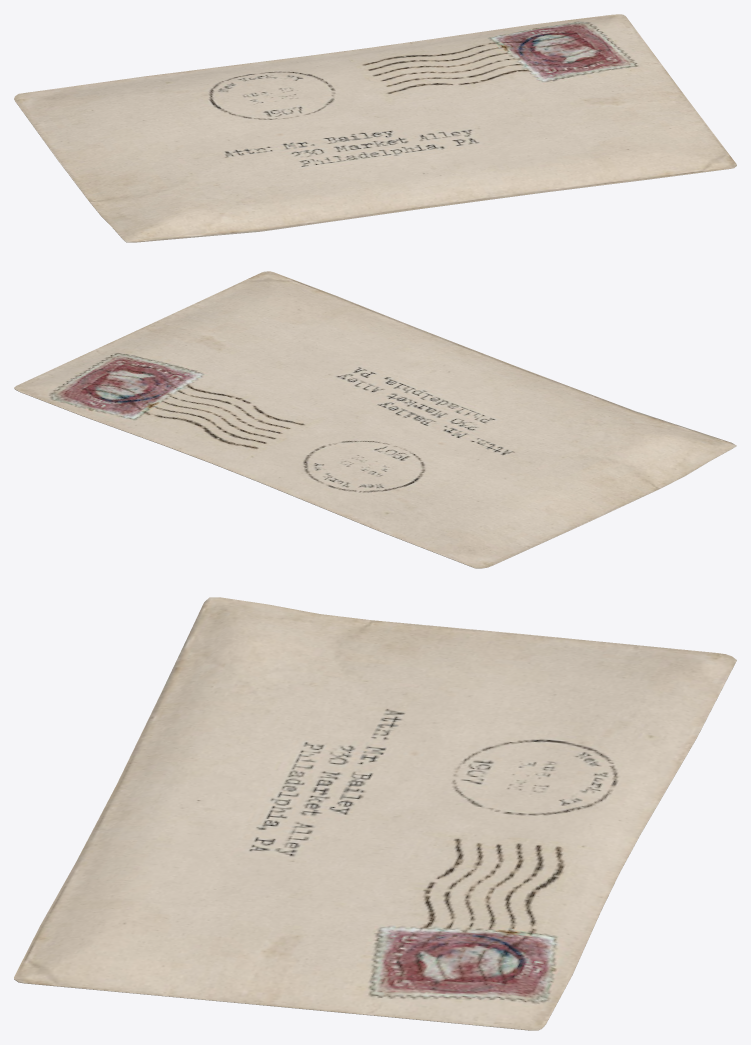
The model's file is Envelope D.fbx.
3 renders of one model, top to bottom at view 1: azimuth 30°, elevation 25°; view 2: azimuth 150°, elevation 25°; view 3: azimuth 270°, elevation 25°, orthographic. The views are drawn at different scales.
Parts seen in each view (by area): view 1: Envelope D; view 2: Envelope D; view 3: Envelope D.
Boxes of the visible parts, x1,y1,x2,y2 form: Envelope D: (14,14,736,242); Envelope D: (14,271,736,568); Envelope D: (14,597,736,1030).
Bounding box in the file's own units: 18.42 × 0.3967 × 13.27.
1 material, 1 textured.
